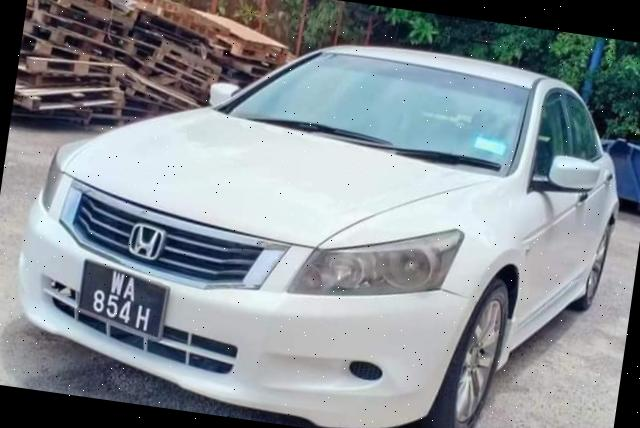License_Plate: (71, 258, 170, 340)
